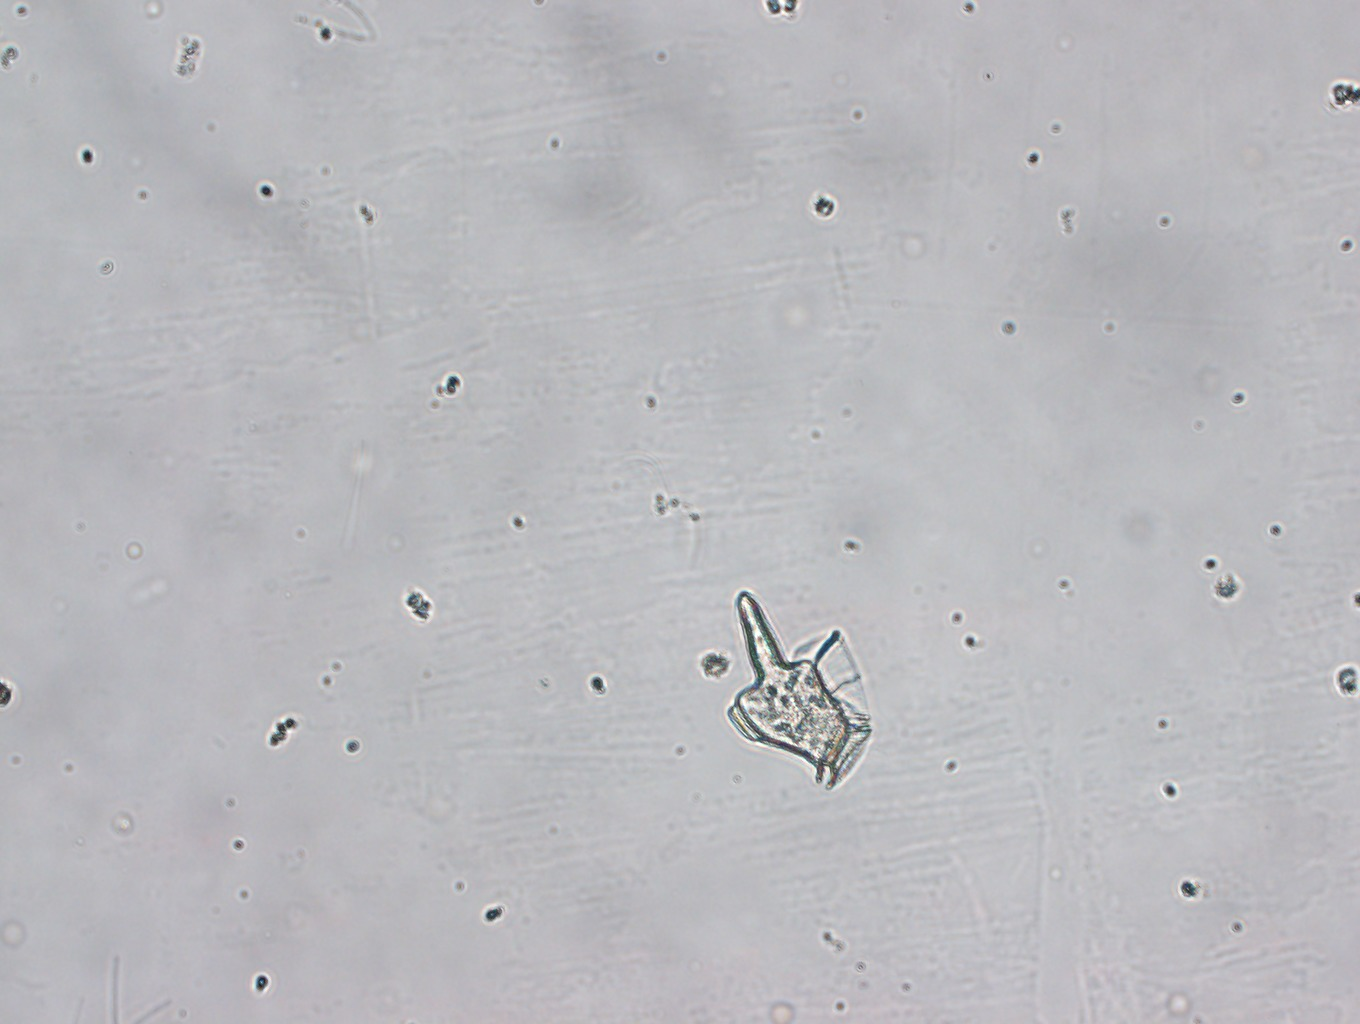dinophysis caudata: (726, 591, 872, 792)
